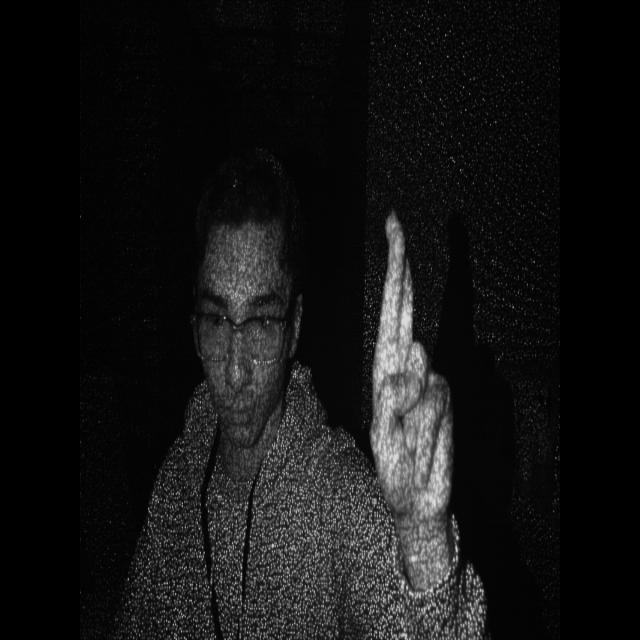R: (361, 203, 462, 493)
